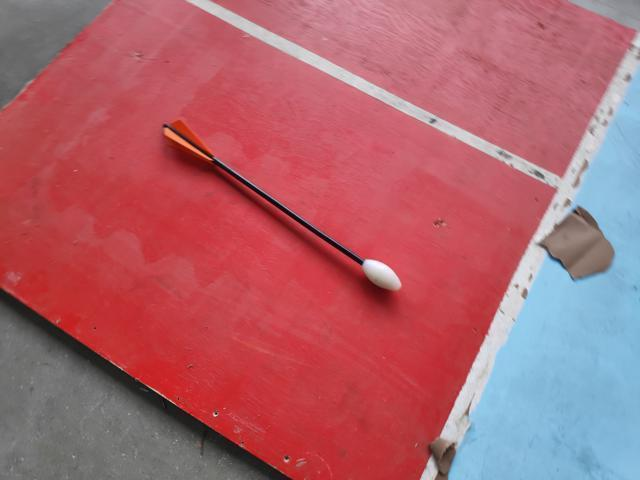Head: (359, 254, 403, 291)
Tail: (159, 115, 219, 163)
